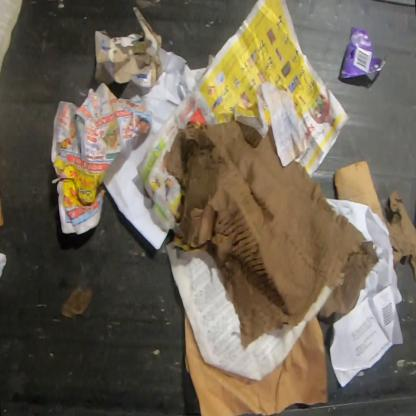cardboard: (164, 119, 379, 347), (185, 310, 327, 416), (334, 159, 415, 282), (337, 26, 386, 86)
